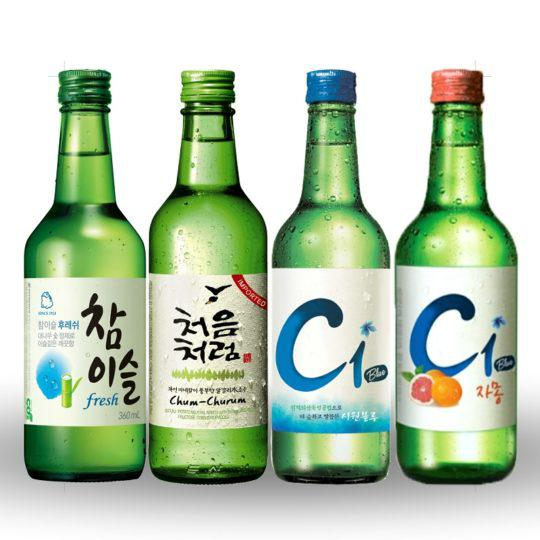soju: (22, 65, 518, 486)
